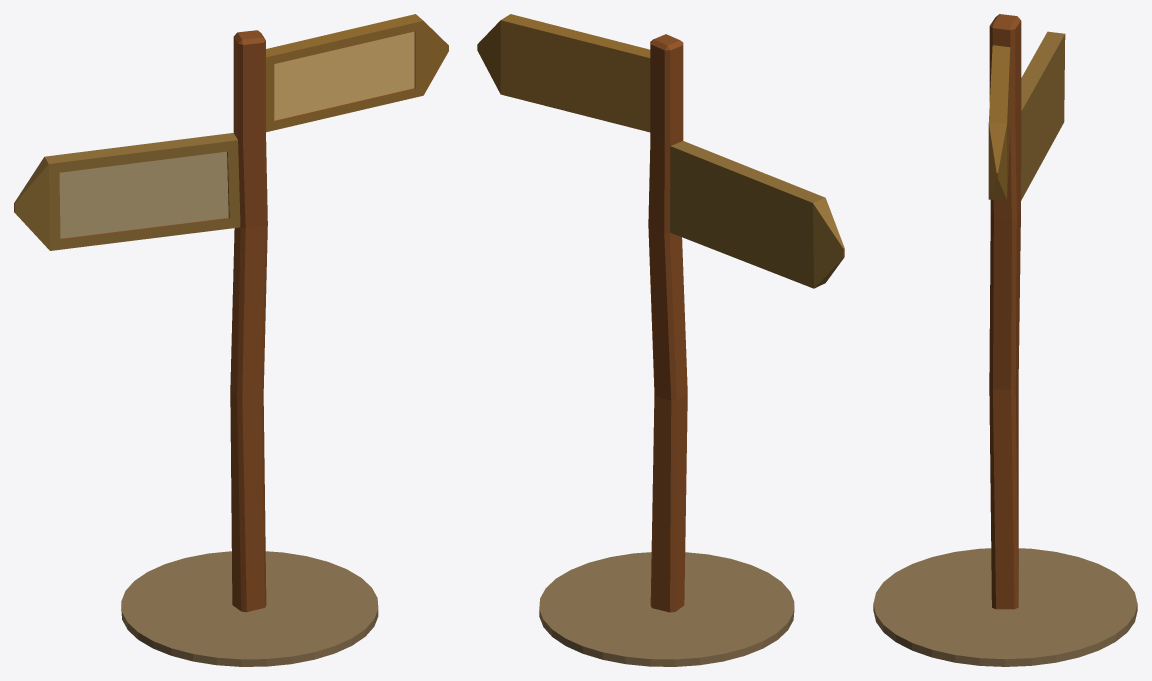
Rendered from Wegweiser.fbx.
3 views of the same model, side by side, from view 1: azimuth 30°, elevation 25°; view 2: azimuth 150°, elevation 25°; view 3: azimuth 270°, elevation 25° (orthographic). The views are drawn at different scales.
Visible parts, largest first — view 1: Cube.003; view 2: Cube.003; view 3: Cube.003.
Part boxes in pixels (x1=…): Cube.003: x1=14, y1=14, x2=448, y2=666; Cube.003: x1=477, y1=14, x2=844, y2=666; Cube.003: x1=873, y1=14, x2=1137, y2=666.
Bounding box in the file's own units: 537 × 737 × 298.
